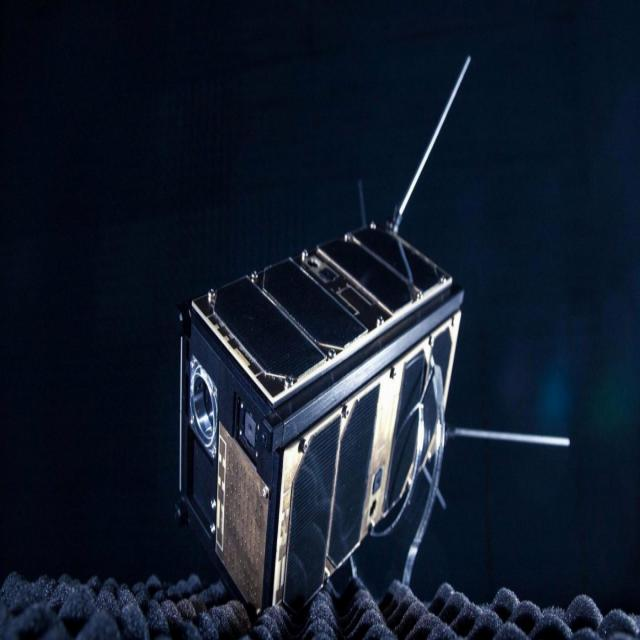medium_debris: (160, 193, 486, 618)
